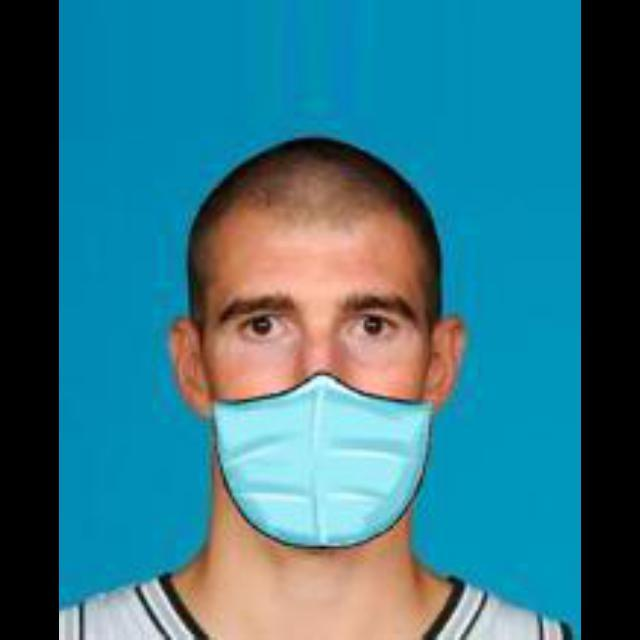suspicion: (169, 130, 465, 548)
